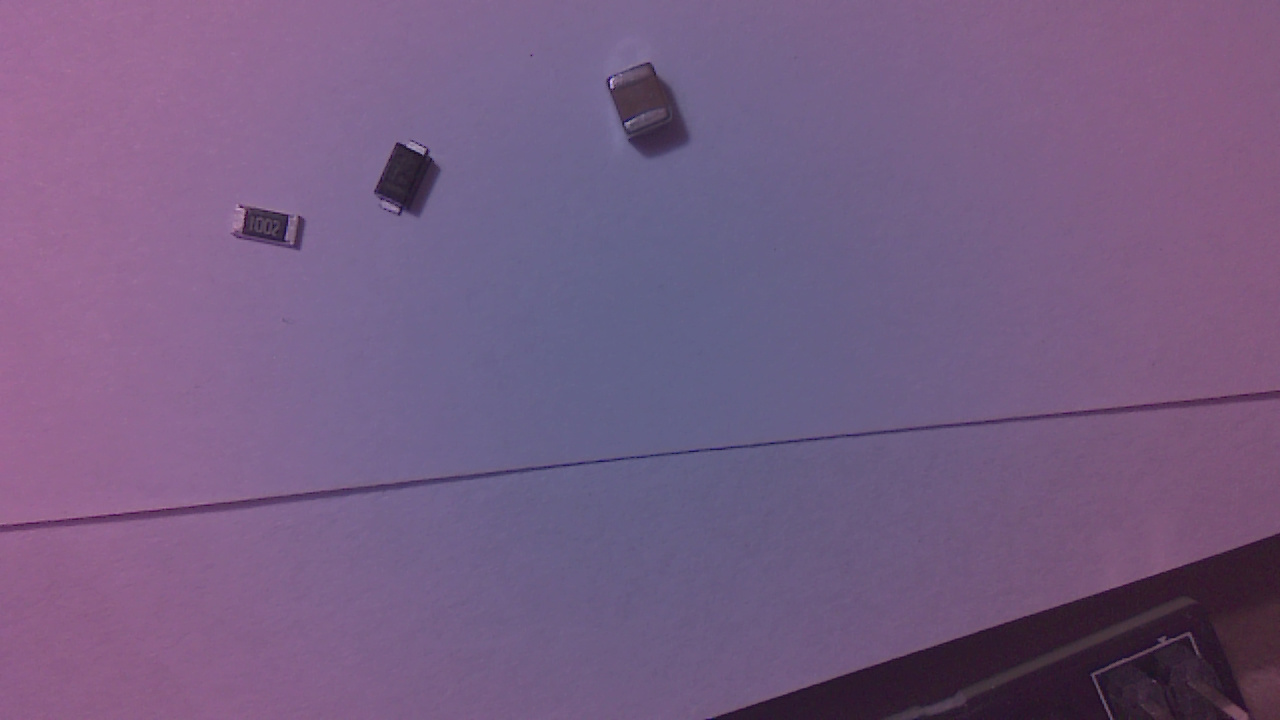Condensator: (611, 69, 682, 145)
Diode: (376, 148, 442, 223)
Resistor: (237, 208, 309, 256)
